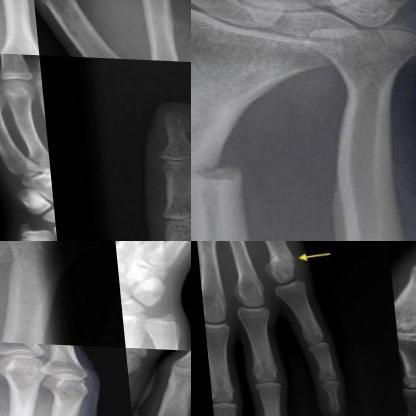fracture: (191, 137, 258, 202), (253, 242, 296, 289)
